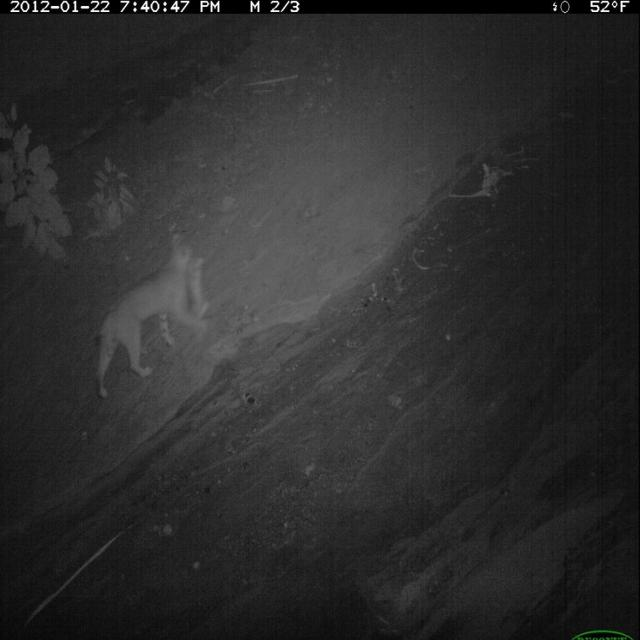bobcat: (91, 220, 213, 403)
rabbit: (182, 254, 213, 328)
